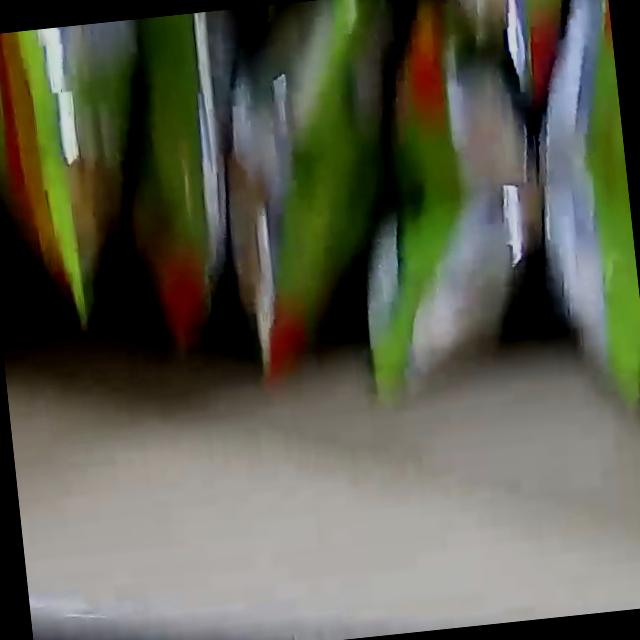yogurt: (0, 0, 640, 369)
